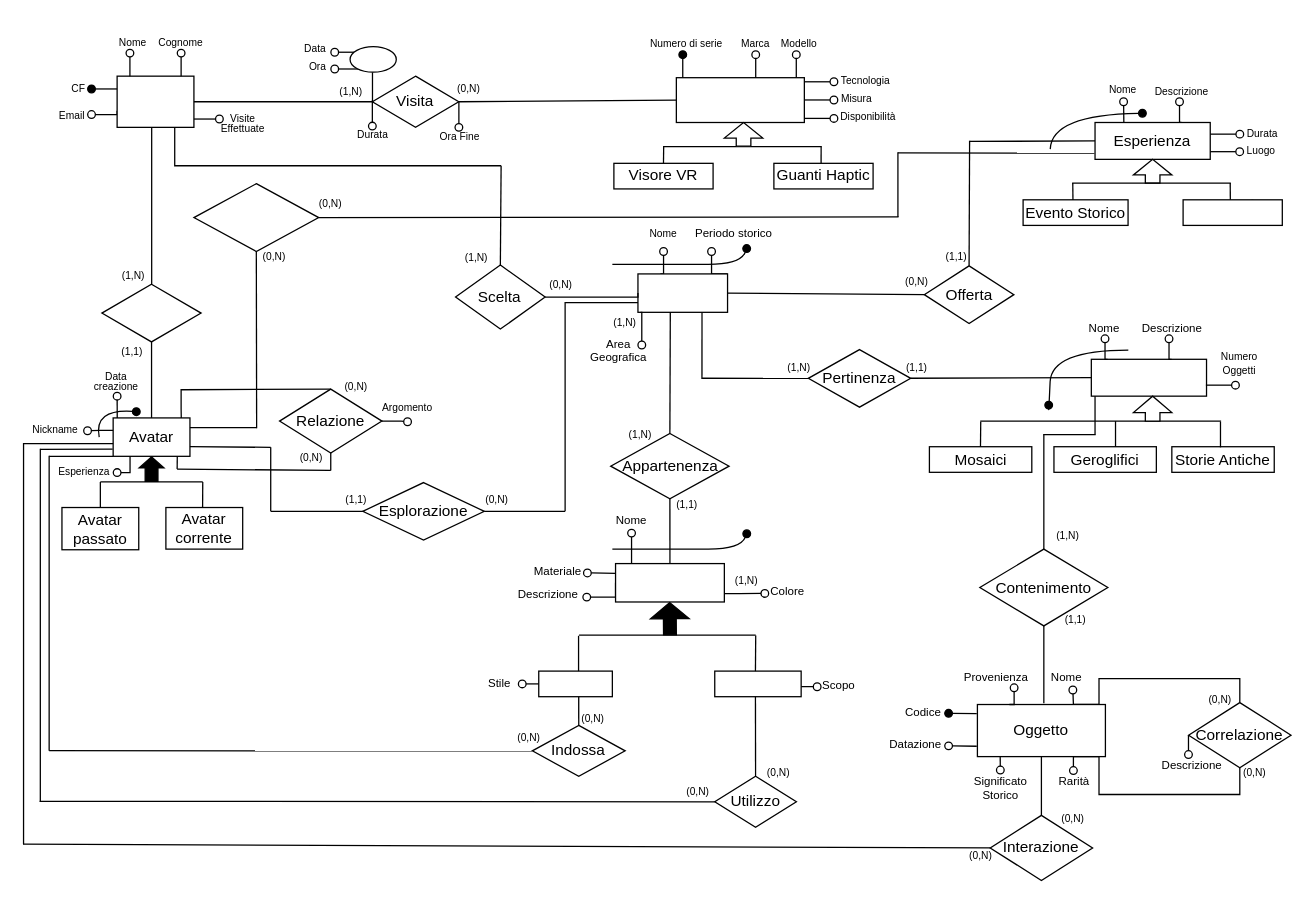
The diagram is 1313 pixels wide and 904 high, and some of its shapes have lost their labels. Each missing label, with the centre of its shape:
"Abbigliamento" belongs at (x=669, y=582).
"Abito" belongs at (x=574, y=683).
"Accessorio" belongs at (x=757, y=683).
"Civiltà" belongs at (x=682, y=292).
"Collezione" belongs at (x=1148, y=377).
"Creazione" belongs at (x=151, y=312).
"DataVisita" belongs at (x=372, y=58).
"Oggetti Informatici" belongs at (x=739, y=99).
"Partecipazione" belongs at (x=256, y=217).
"Rivolta" belongs at (x=1232, y=212).
"Visitatore" belongs at (x=155, y=101).
